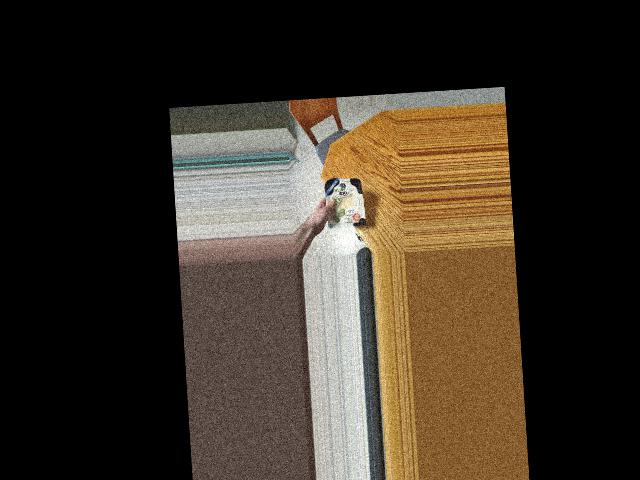cheese: (322, 165, 366, 239)
